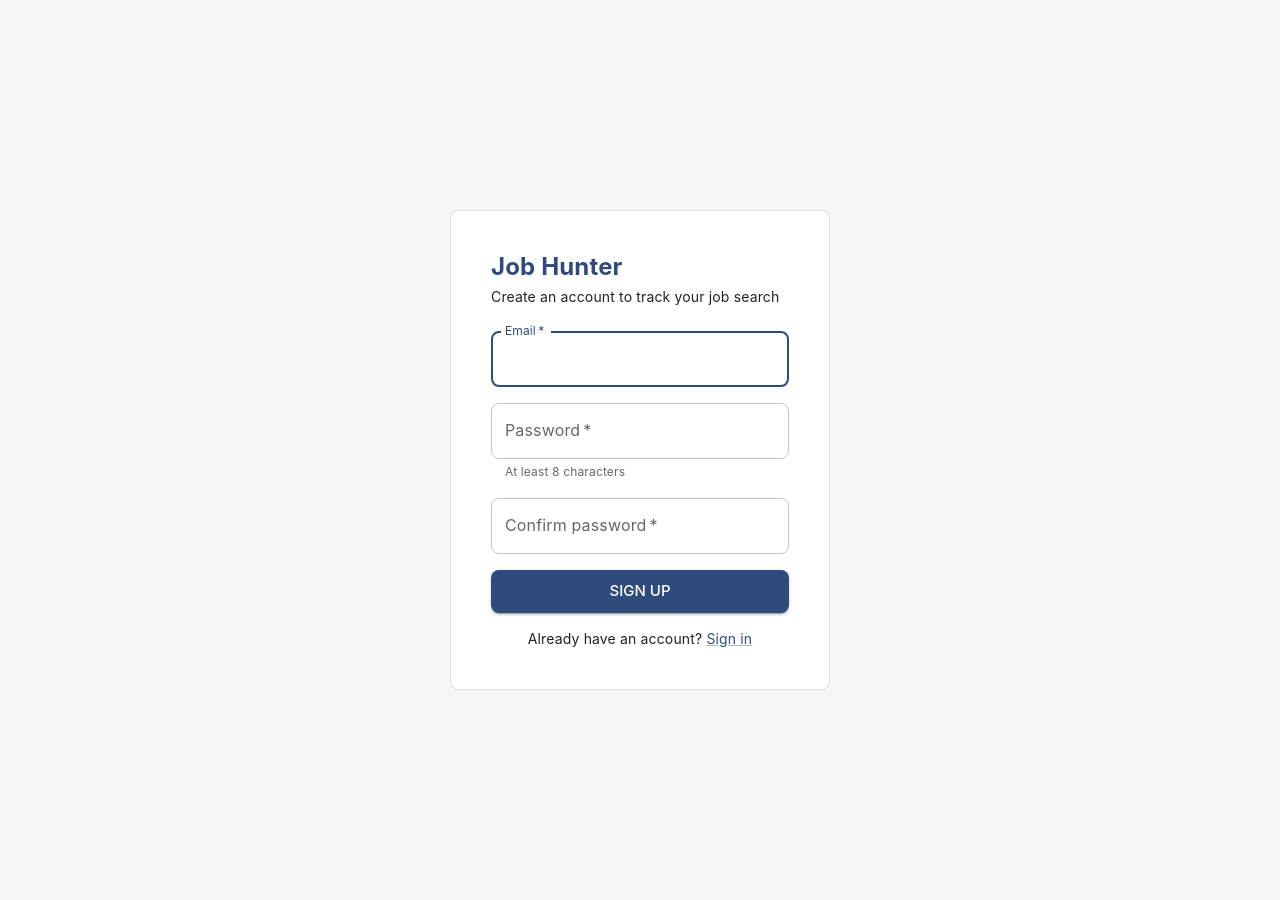
Test: signing up › creates the account, is logged in and lands on the empty Board
Type "  new@example.com " into the field labelled "Email *" at coordinates (640, 359), box [491,331,789,387]
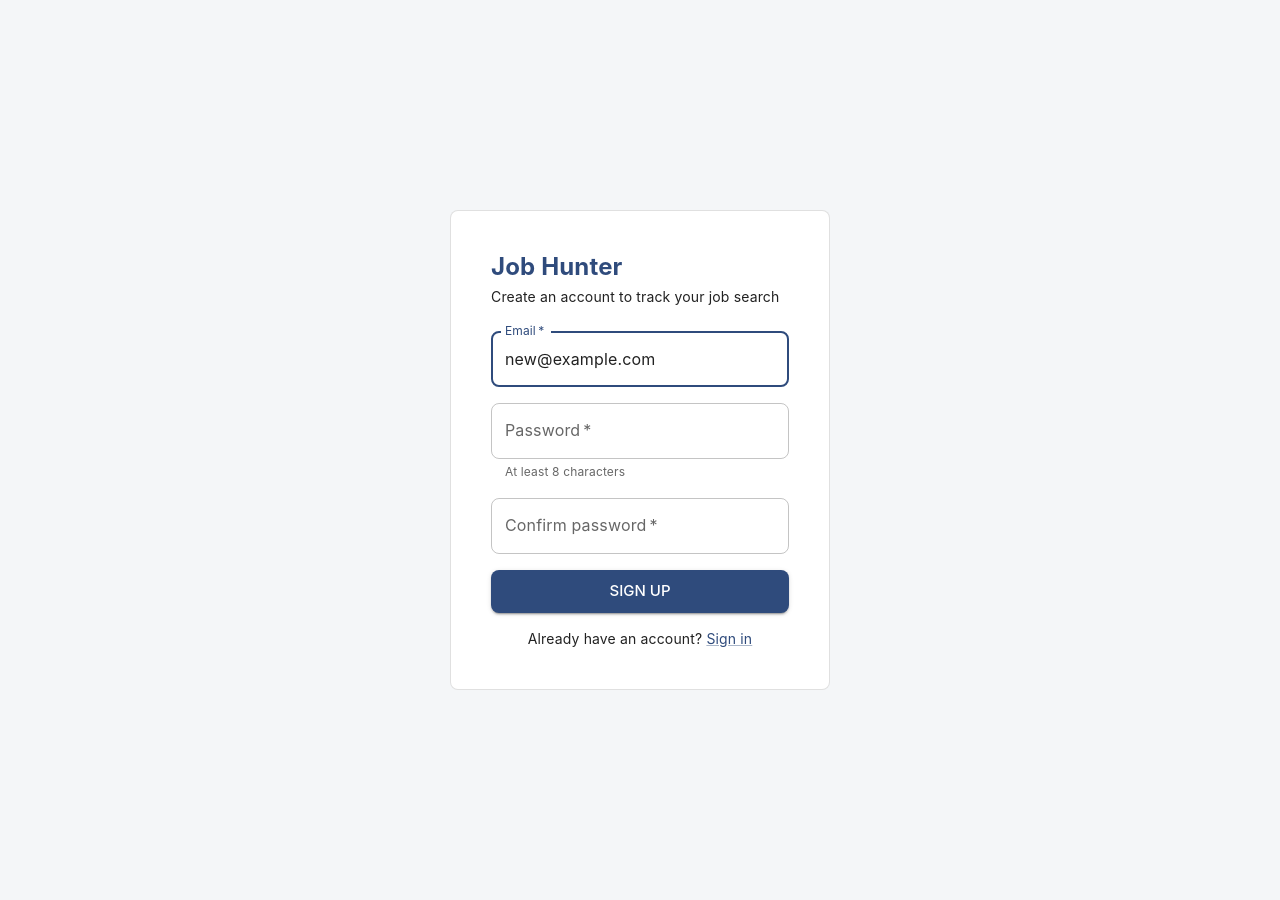
Type "correct horse battery" into the password field labelled "Password *" at coordinates (640, 431), box [491,403,789,459]
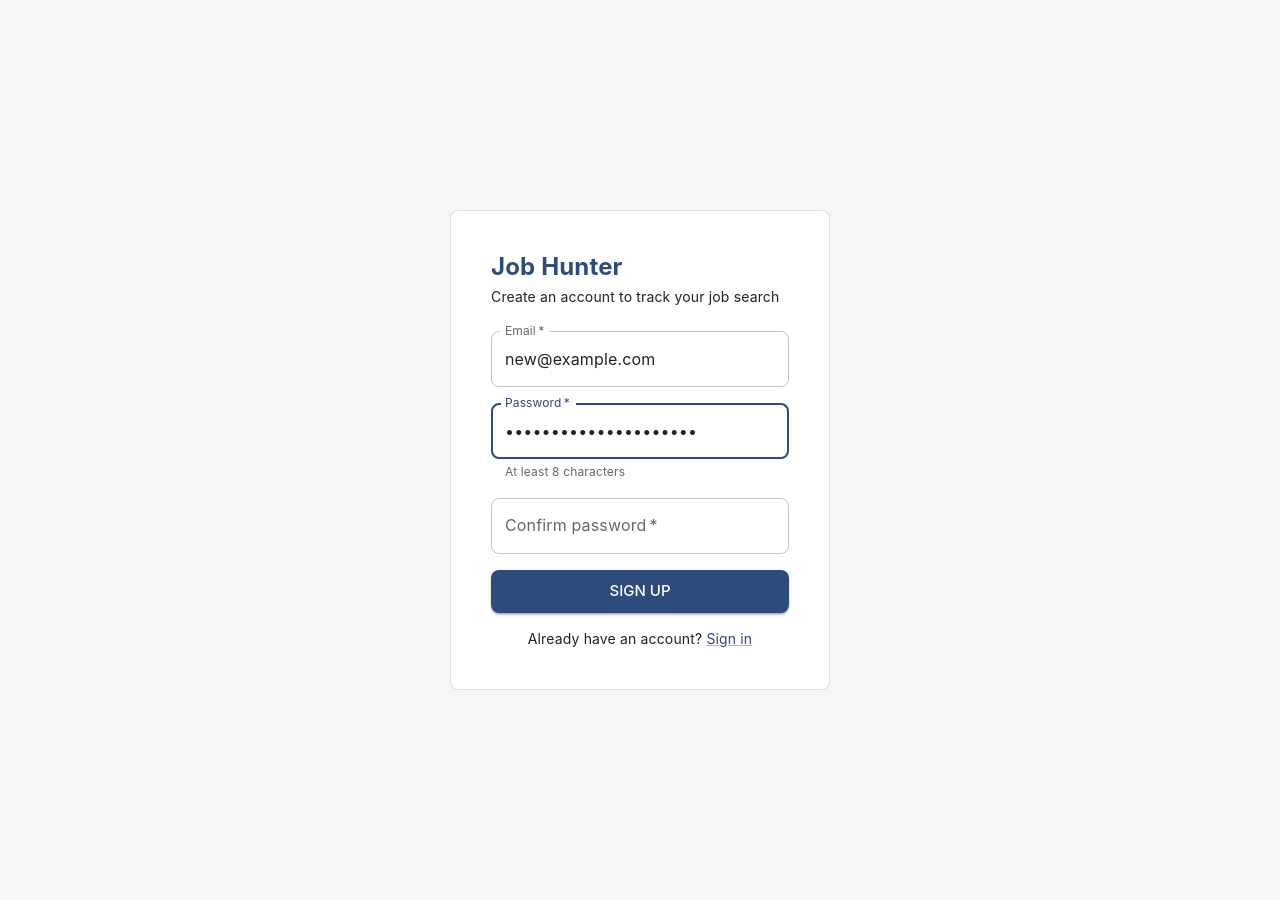
Type "correct horse battery" into the password field labelled "Confirm password *" at coordinates (640, 526), box [491,498,789,554]
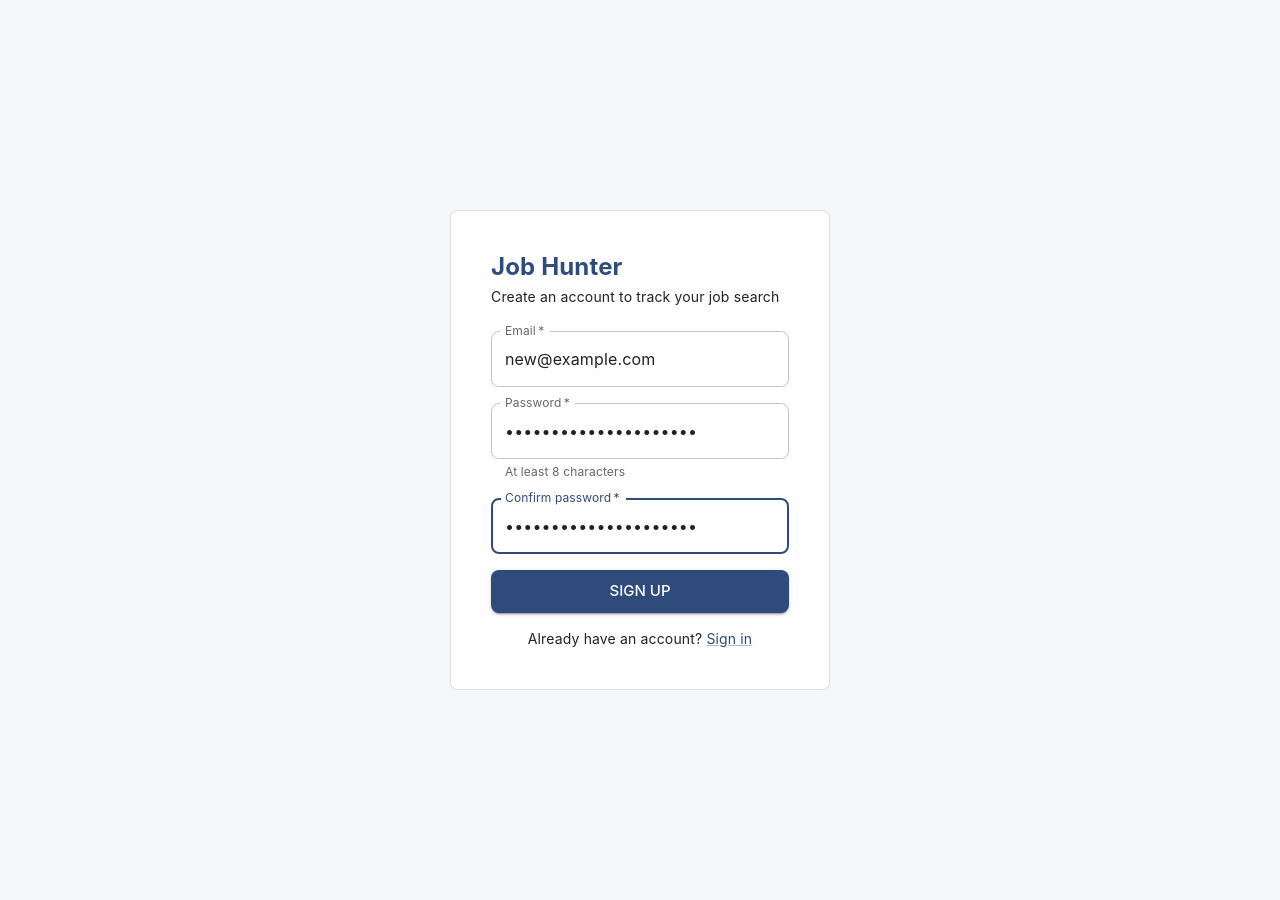
Press Enter
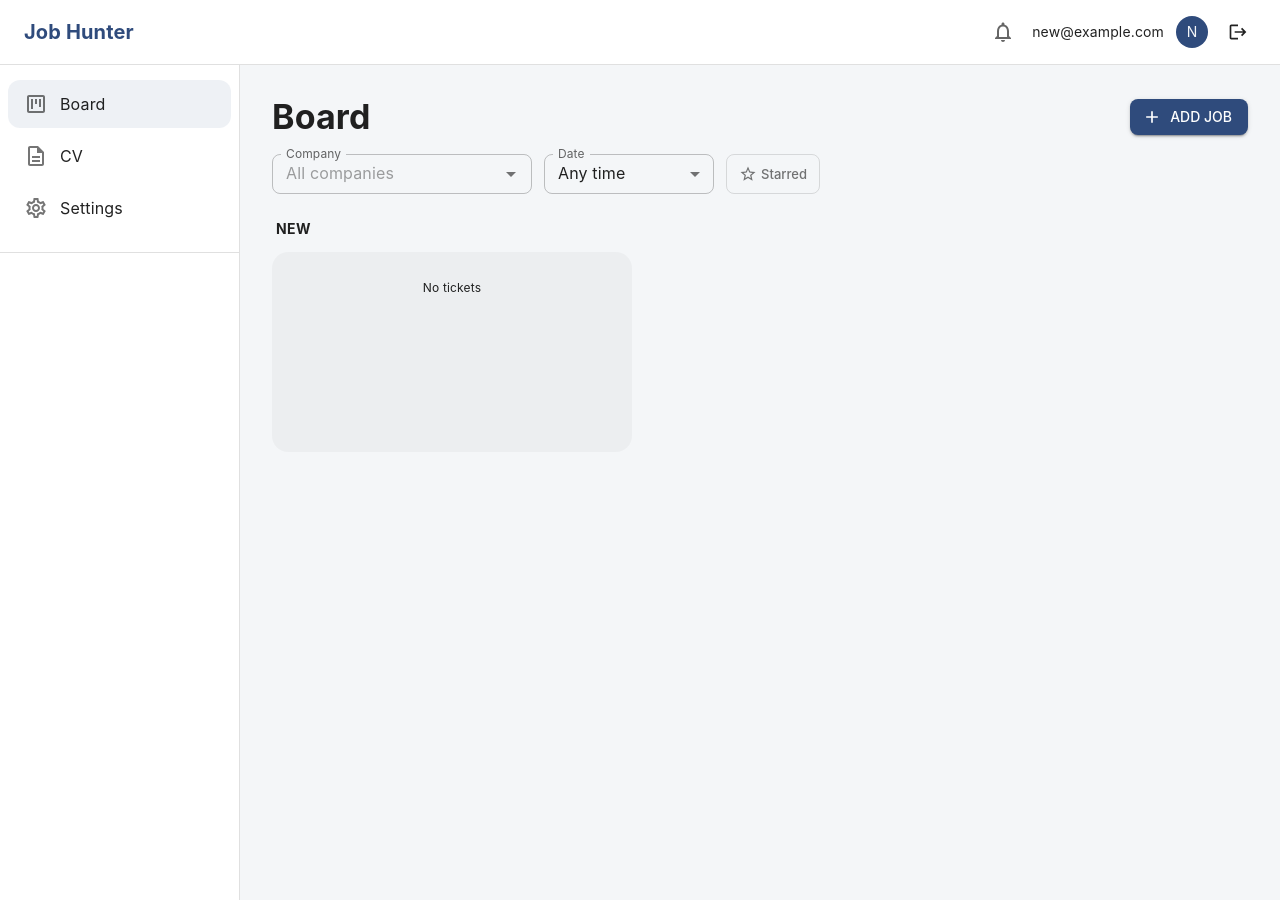
Now the heading "Board" is shown, box [272,96,371,138]
Now the text "new@example.com" is shown, box [1032,22,1164,42]
